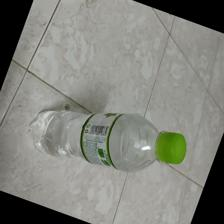Dasani: (27, 108, 187, 173)
